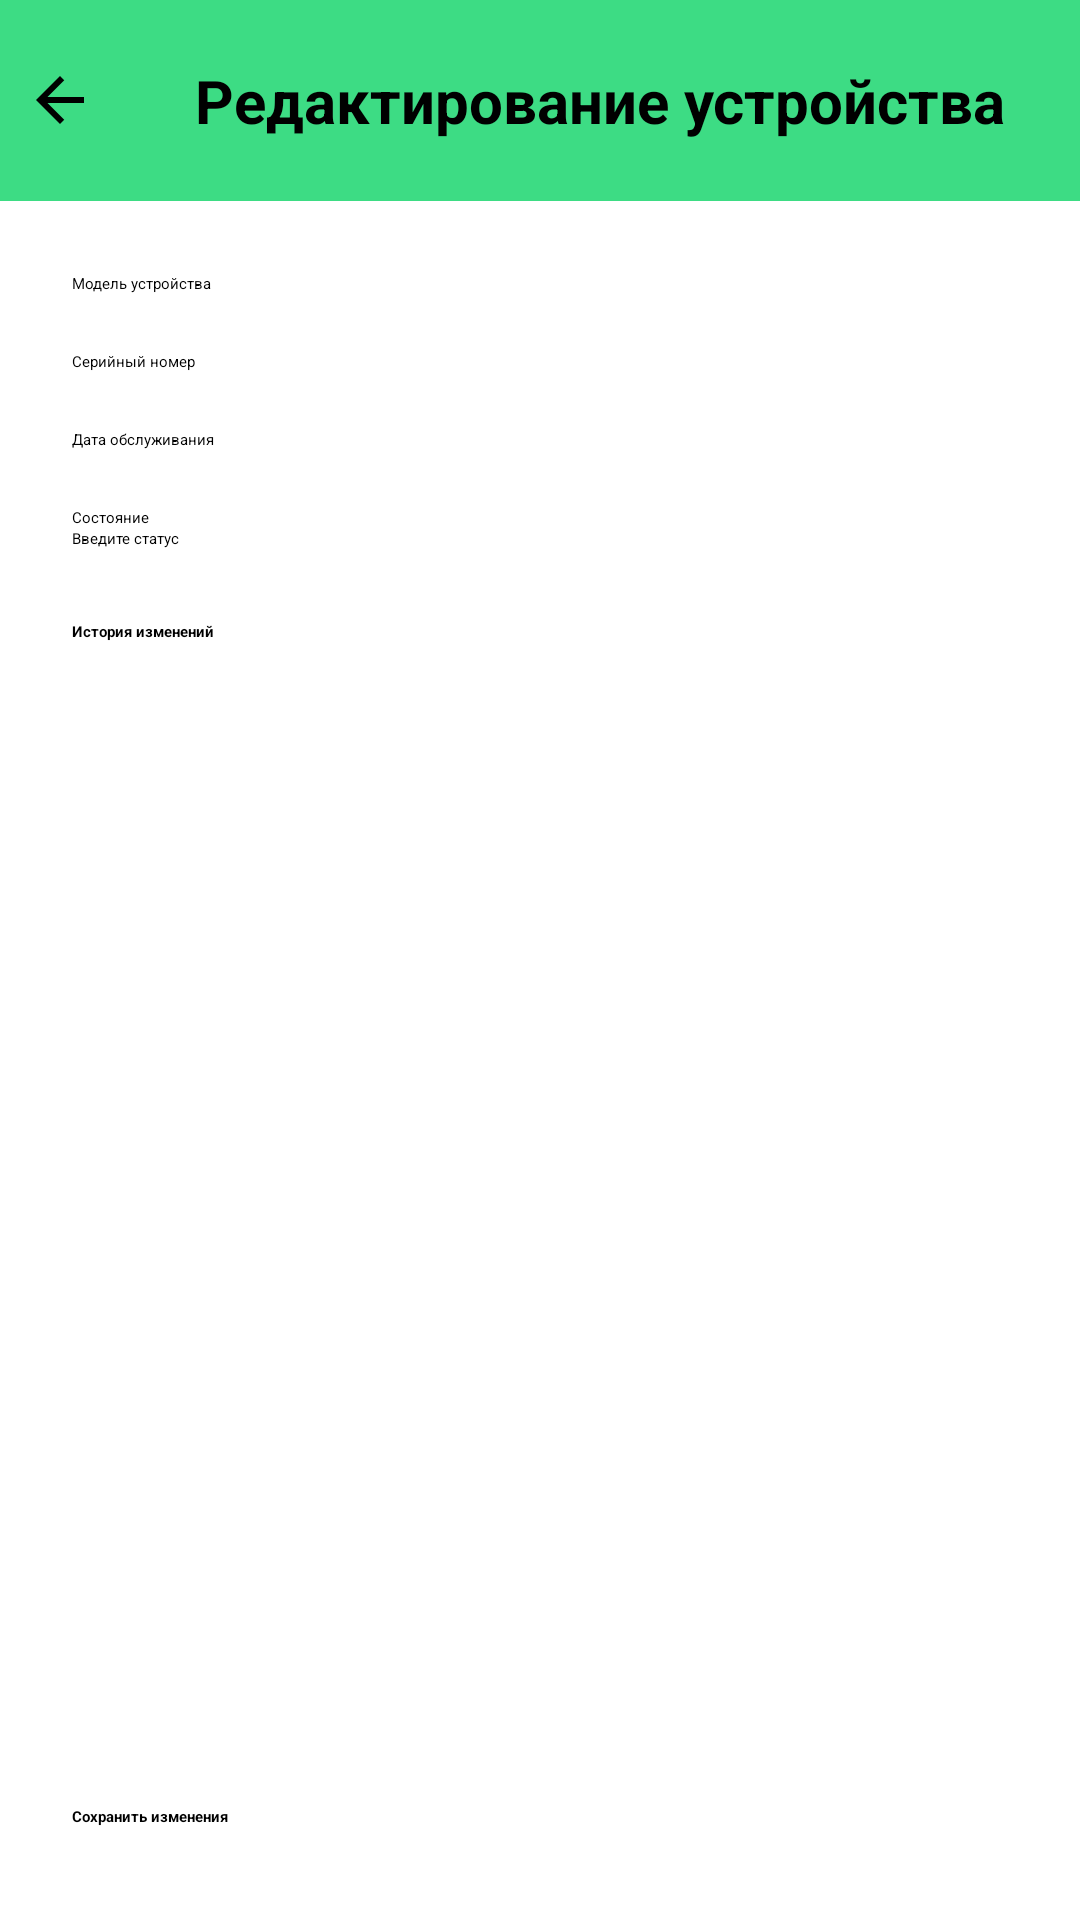

Icon bounding boxes for this 1080px x 1920px phone screenshot, format (x1, y1, x2, y2):
Назад: (36, 76, 84, 124)
